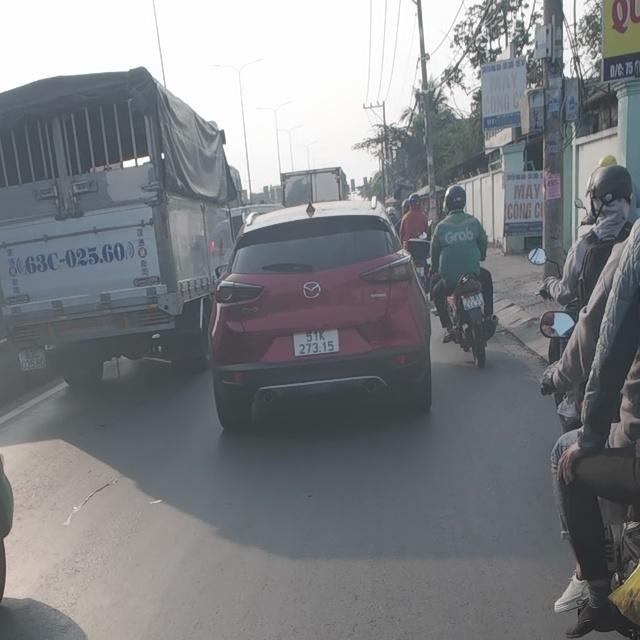license-plate: (292, 329, 339, 357)
